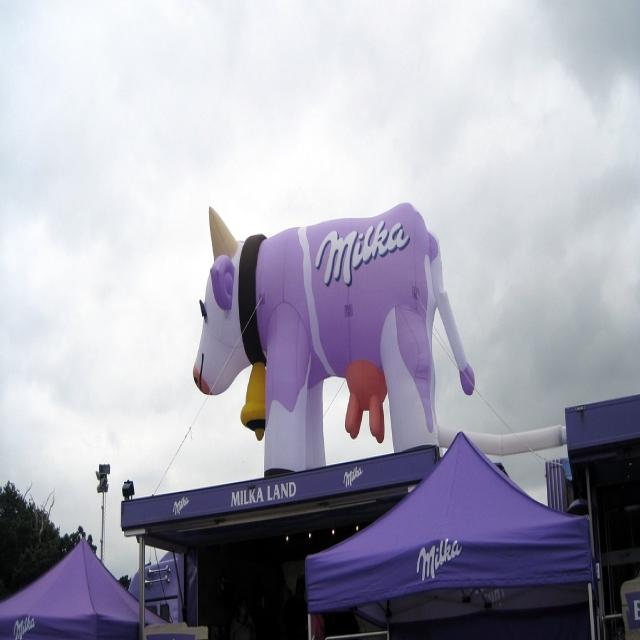milka: (314, 216, 410, 291), (414, 533, 464, 585), (13, 612, 39, 640), (342, 464, 365, 494), (172, 491, 193, 521)
